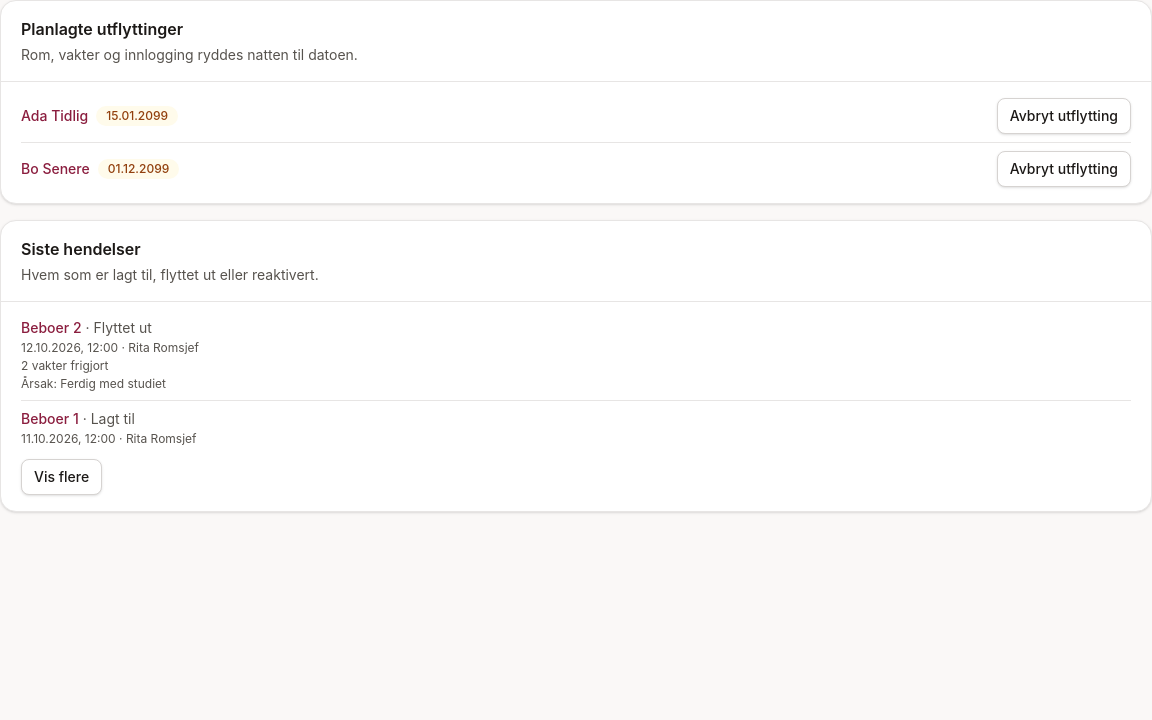
Test: MoveOutsTab › shows the feed with who did what, and loads more on request
Expected: the text "· Flyttet ut" is shown, x1=82 y1=319 x2=152 y2=336
Expected: the text "2 vakter frigjort" is shown, x1=21 y1=358 x2=108 y2=373
What coordinates should you click on to do the following:
click the button "Vis flere"
I would click on:
 (62, 477)
Its box is x1=21 y1=459 x2=102 y2=495.
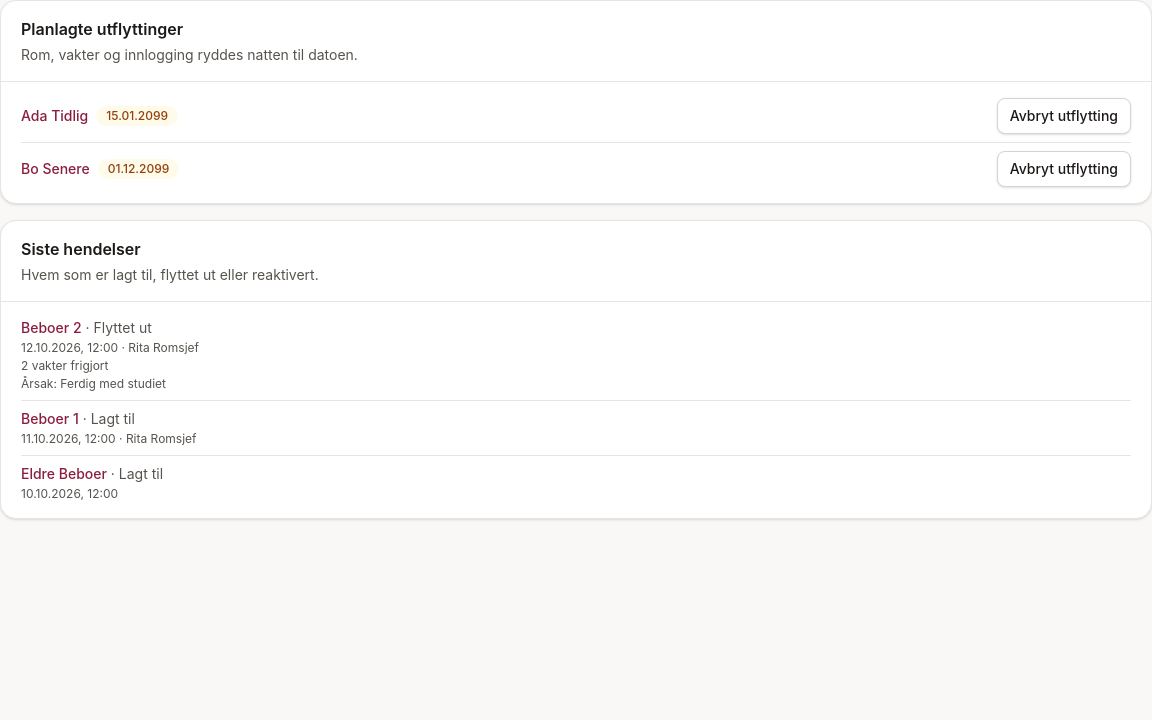
Expected: the link "Eldre Beboer" is shown, x1=21 y1=465 x2=107 y2=482
Expected: the button "Vis flere" is gone
